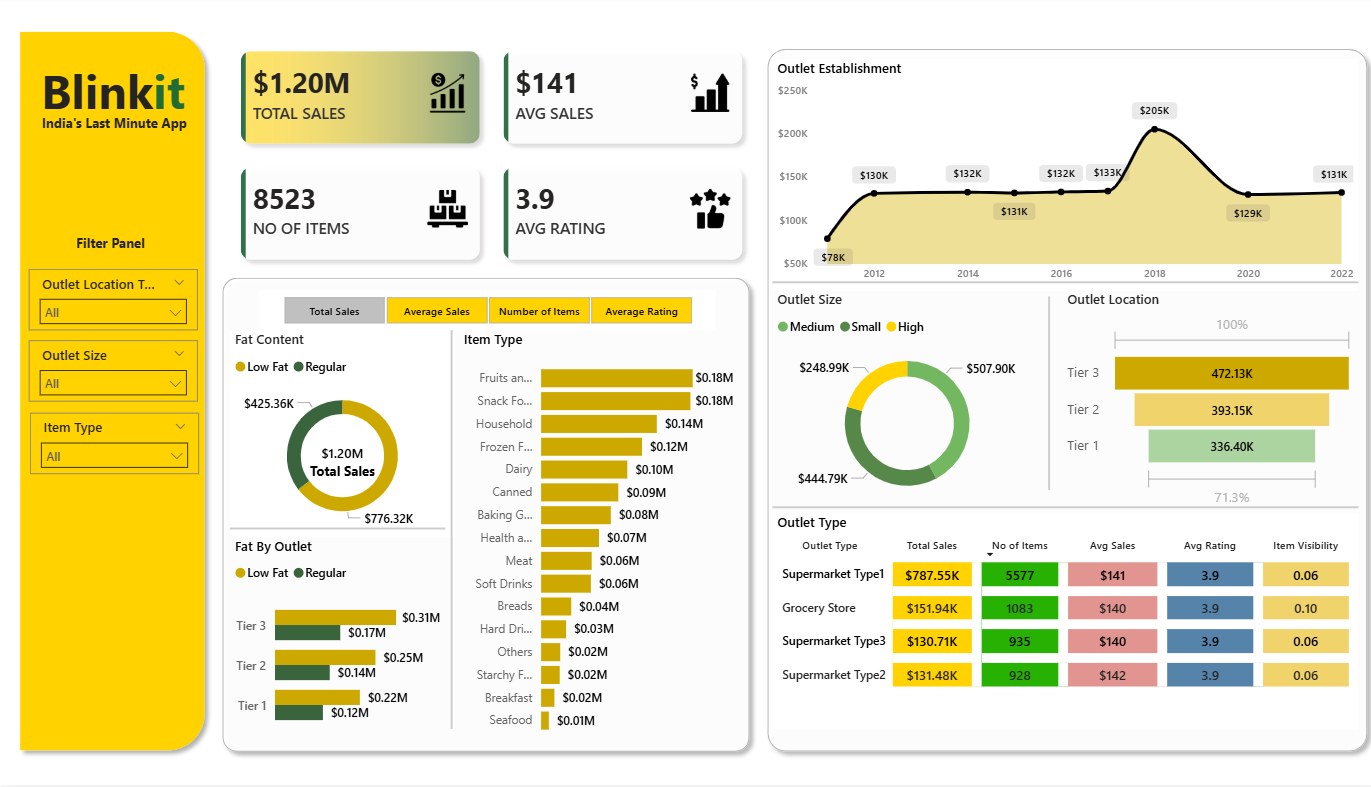

What the dashboard file says about the page in this screenshot:
{"tool":"powerbi","page":{"name":"Page 1","canvas":[1400,800],"ordinal":0},"visuals":[{"type":"shape","box":[10.8,24.8,205.9,749.4],"z":0},{"type":"textbox","box":[29.4,54.2,171.9,74.3],"z":1000},{"type":"textbox","box":[31,111.5,171.9,34.1],"z":2000},{"type":"cardVisual","fields":{"Data":["BlinkIT Grocery Data.Total Sales","BlinkIT Grocery Data.Average Sales","BlinkIT Grocery Data.Number of Items","BlinkIT Grocery Data.Average Rating"]},"box":[216.8,24.8,569.8,271],"z":3000},{"type":"shape","box":[217.3,274.5,554.1,500.2],"z":4000},{"type":"donutChart","title":"Fat Content","fields":{"Y":["BlinkIT Grocery Data.Total Sales"],"Category":["BlinkIT Grocery Data.Item Fat Content"]},"box":[234.1,336.8,229.1,210],"z":5000},{"type":"slicer","fields":{"Values":["Metric.Metric"]},"box":[262.7,296.4,464.8,40.4],"z":6000},{"type":"cardVisual","fields":{"Data":["BlinkIT Grocery Data.Total Sales"]},"box":[289.7,436.2,117.9,69.1],"z":7000},{"type":"clusteredBarChart","title":"Fat By Outlet","fields":{"Y":["BlinkIT Grocery Data.Total Sales"],"Category":["BlinkIT Grocery Data.Outlet Location Type"],"Series":["BlinkIT Grocery Data.Item Fat Content"]},"box":[234.1,547.4,218.9,210],"z":8000},{"type":"shape","box":[234.1,530.5,218.9,16.8],"z":9000},{"type":"shape","box":[453.1,336.8,13.5,405.9],"z":10000},{"type":"clusteredBarChart","title":"Item Type","fields":{"Y":["BlinkIT Grocery Data.Total Sales"],"Category":["BlinkIT Grocery Data.Item Type"]},"box":[466.5,336.8,284.6,421.1],"z":11000},{"type":"shape","box":[771.4,42.1,628.2,732.6],"z":12000},{"type":"lineChart","title":"Outlet Establishment","fields":{"Y":["BlinkIT Grocery Data.Total Sales"],"Category":["BlinkIT Grocery Data.Outlet Establishment Year"]},"box":[786.5,60.6,596.2,235.8],"z":13000},{"type":"shape","box":[786.5,279.6,596.2,16.8],"z":14000},{"type":"donutChart","title":"Outlet Size","fields":{"Y":["BlinkIT Grocery Data.Total Sales"],"Category":["BlinkIT Grocery Data.Outlet Size"]},"box":[786.5,296.4,274.5,225.7],"z":15000},{"type":"shape","box":[1061.1,303.2,13.5,197.1],"z":16000},{"type":"funnel","title":"Outlet Location","fields":{"Category":["BlinkIT Grocery Data.Outlet Location Type"],"Y":["Sum(BlinkIT Grocery Data.Sales)"]},"box":[1081.3,296.4,301.5,225.7],"z":17000},{"type":"shape","box":[786.5,508.6,596.2,16.8],"z":18000},{"type":"pivotTable","title":"Outlet Type","fields":{"Rows":["BlinkIT Grocery Data.Outlet Type"],"Values":["BlinkIT Grocery Data.Total Sales","BlinkIT Grocery Data.Number of Items","BlinkIT Grocery Data.Average Sales","BlinkIT Grocery Data.Average Rating","Avg(BlinkIT Grocery Data.Item Visibility)"]},"box":[786.5,522.1,596.2,220.6],"z":19000},{"type":"slicer","fields":{"Values":["BlinkIT Grocery Data.Outlet Location Type"]},"box":[28.6,274.5,171.8,62.3],"z":20000},{"type":"slicer","fields":{"Values":["BlinkIT Grocery Data.Outlet Size"]},"box":[28.6,346.9,171.8,62.3],"z":21000},{"type":"slicer","fields":{"Values":["BlinkIT Grocery Data.Item Type"]},"box":[30.3,421.1,171.8,62.3],"z":22000},{"type":"textbox","box":[72.4,234.1,82.5,28.6],"z":23000}]}

Visuals, with their boxes in screenshot pixels (x1, y1, x2, y2), scaled from the page's 1400x800 canvas onto the 1371x787 screenshot:
shape: (left=11, top=24, right=212, bottom=762)
textbox: (left=29, top=53, right=197, bottom=126)
textbox: (left=30, top=110, right=199, bottom=143)
cardVisual - BlinkIT Grocery Data.Total Sales x BlinkIT Grocery Data.Average Sales: (left=212, top=24, right=770, bottom=291)
shape: (left=213, top=270, right=755, bottom=762)
"Fat Content" donutChart: (left=229, top=331, right=454, bottom=538)
slicer - Metric.Metric: (left=257, top=292, right=712, bottom=331)
cardVisual - BlinkIT Grocery Data.Total Sales: (left=284, top=429, right=399, bottom=497)
"Fat By Outlet" clusteredBarChart: (left=229, top=539, right=444, bottom=745)
shape: (left=229, top=522, right=444, bottom=538)
shape: (left=444, top=331, right=457, bottom=731)
"Item Type" clusteredBarChart: (left=457, top=331, right=736, bottom=746)
shape: (left=755, top=41, right=1370, bottom=762)
"Outlet Establishment" lineChart: (left=770, top=60, right=1354, bottom=292)
shape: (left=770, top=275, right=1354, bottom=292)
"Outlet Size" donutChart: (left=770, top=292, right=1039, bottom=514)
shape: (left=1039, top=298, right=1052, bottom=492)
"Outlet Location" funnel: (left=1059, top=292, right=1354, bottom=514)
shape: (left=770, top=500, right=1354, bottom=517)
"Outlet Type" pivotTable: (left=770, top=514, right=1354, bottom=731)
slicer - BlinkIT Grocery Data.Outlet Location Type: (left=28, top=270, right=196, bottom=331)
slicer - BlinkIT Grocery Data.Outlet Size: (left=28, top=341, right=196, bottom=403)
slicer - BlinkIT Grocery Data.Item Type: (left=30, top=414, right=198, bottom=476)
textbox: (left=71, top=230, right=152, bottom=258)
